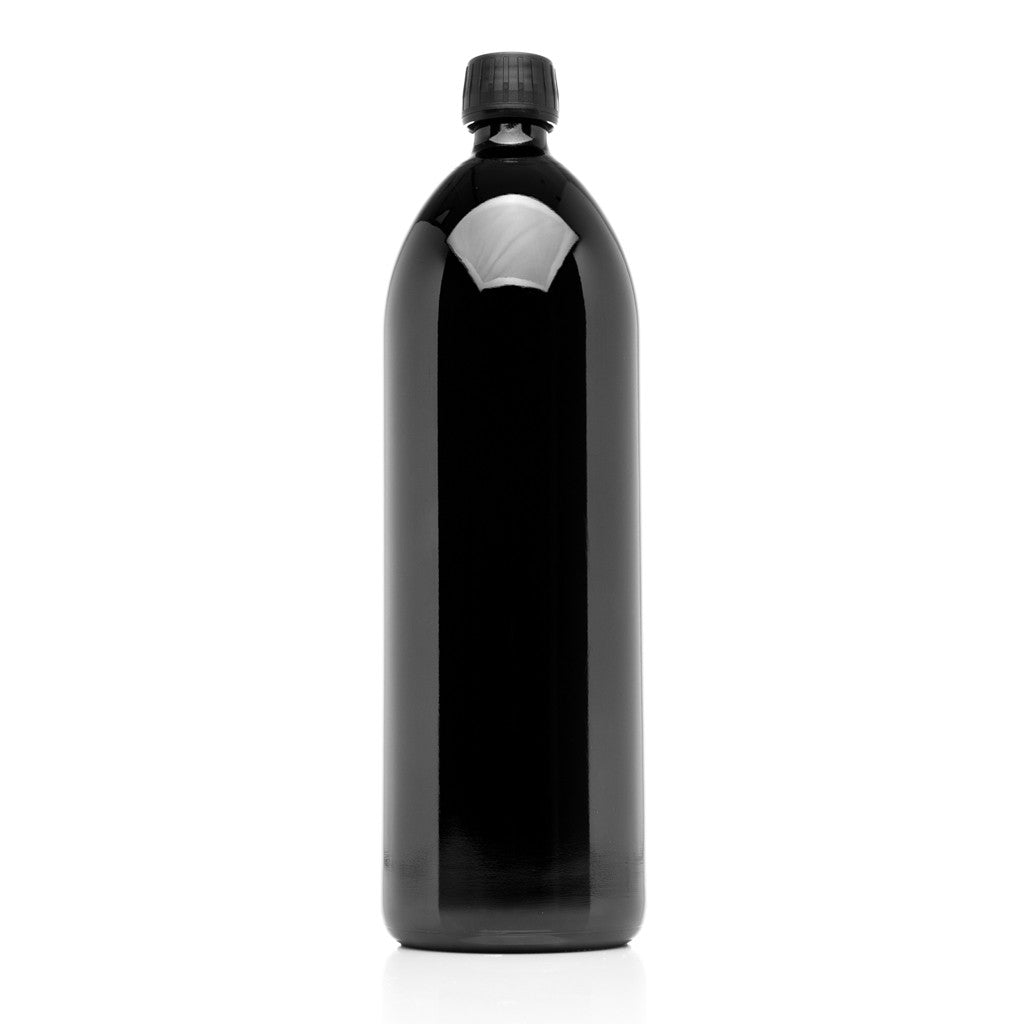glass_bottle: (353, 40, 687, 972)
